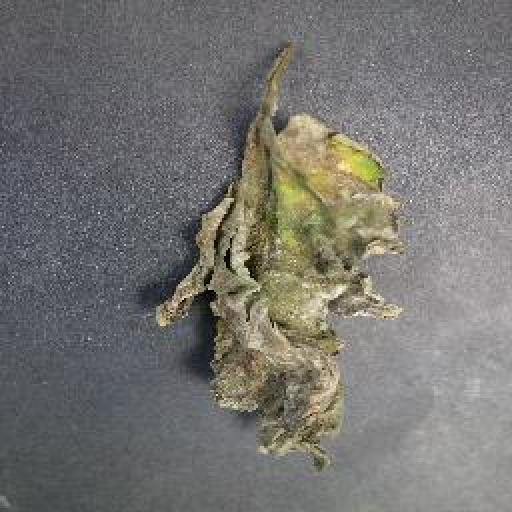Late Blight: (137, 107, 407, 480)
